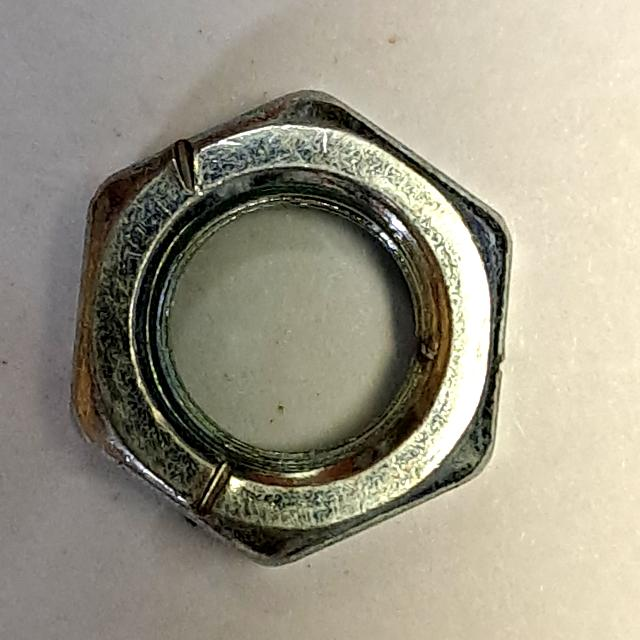Scratches: (51, 68, 531, 589)
